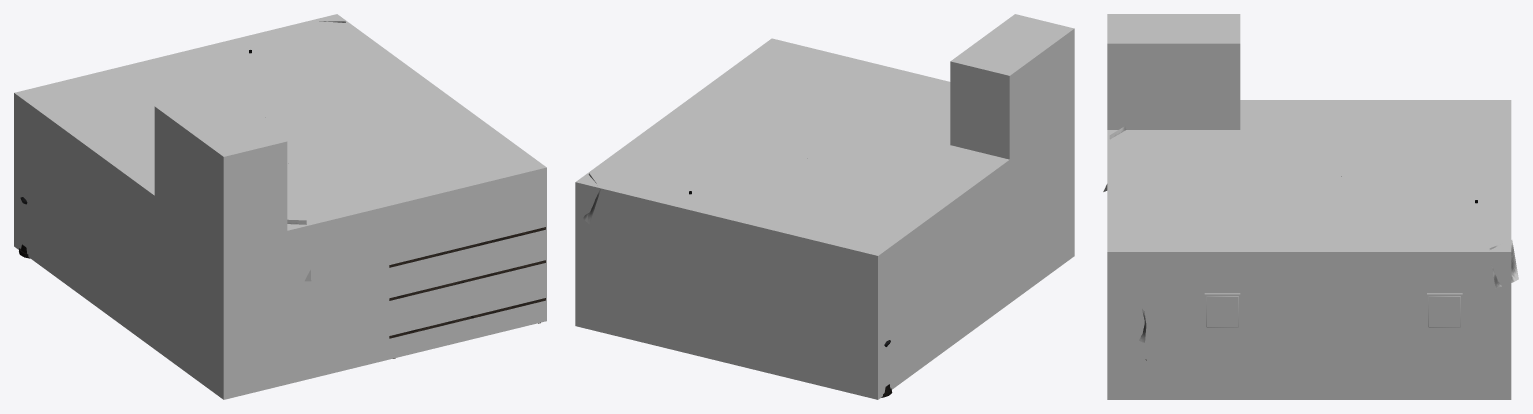
Rendered from basement.FBX.
3 renders of one model, left to right at view 1: azimuth 30°, elevation 25°; view 2: azimuth 150°, elevation 25°; view 3: azimuth 270°, elevation 25°, orthographic. The views are drawn at different scales.
Parts seen in each view (by area): view 1: basement, shelf_001; view 2: basement; view 3: basement.
Part boxes in pixels (x1=…): basement: x1=14, y1=14, x2=546, y2=399; shelf_001: x1=389, y1=227, x2=545, y2=358; basement: x1=575, y1=14, x2=1074, y2=399; basement: x1=1107, y1=14, x2=1511, y2=399.
Size of the model in its own units: 27.11 by 18.91 by 30.29.
